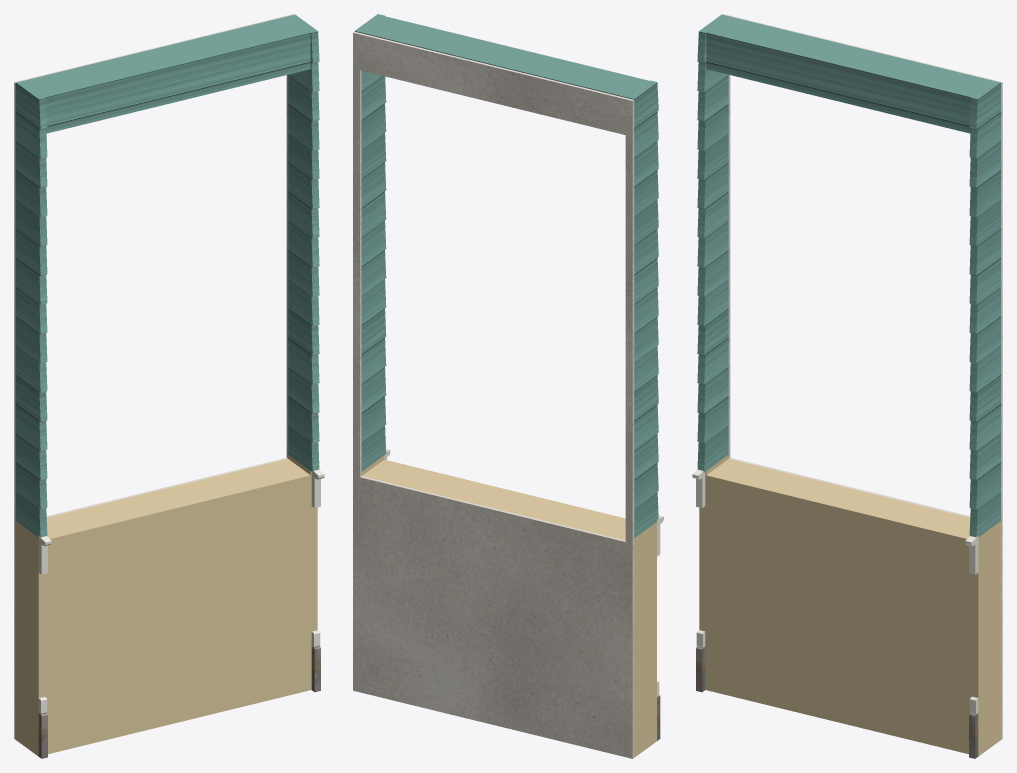
The model's file is f_g_bay_c.glb.
3 views of the same model, side by side, from view 1: azimuth 30°, elevation 25°; view 2: azimuth 150°, elevation 25°; view 3: azimuth 330°, elevation 25° (orthographic).
Parts seen in each view (by area): view 1: f_g_bay_c_acc_c, f_g_bay_c_siding_c, f_g_bay_c_plaster, f_g_bay_c_trim, f_g_bay_c_plinth; view 2: f_g_bay_c_plaster, f_g_bay_c_siding_c, f_g_bay_c_acc_c; view 3: f_g_bay_c_acc_c, f_g_bay_c_siding_c, f_g_bay_c_plaster, f_g_bay_c_trim, f_g_bay_c_plinth.
Part boxes in pixels (x1,y1,x2,y2): f_g_bay_c_acc_c: (16,455,317,756); f_g_bay_c_siding_c: (16,14,319,537); f_g_bay_c_plaster: (14,14,293,739); f_g_bay_c_trim: (38,469,324,713); f_g_bay_c_plinth: (38,646,320,758); f_g_bay_c_plaster: (353,31,634,758); f_g_bay_c_siding_c: (354,14,658,537); f_g_bay_c_acc_c: (361,455,656,757); f_g_bay_c_acc_c: (699,455,1000,756); f_g_bay_c_siding_c: (697,14,1000,537); f_g_bay_c_plaster: (723,14,1002,739); f_g_bay_c_trim: (692,469,978,713); f_g_bay_c_plinth: (696,646,978,758).
Bounding box in the file's own units: 2 × 4.5 × 0.385.
Materials: 5 (3 with a texture image).
